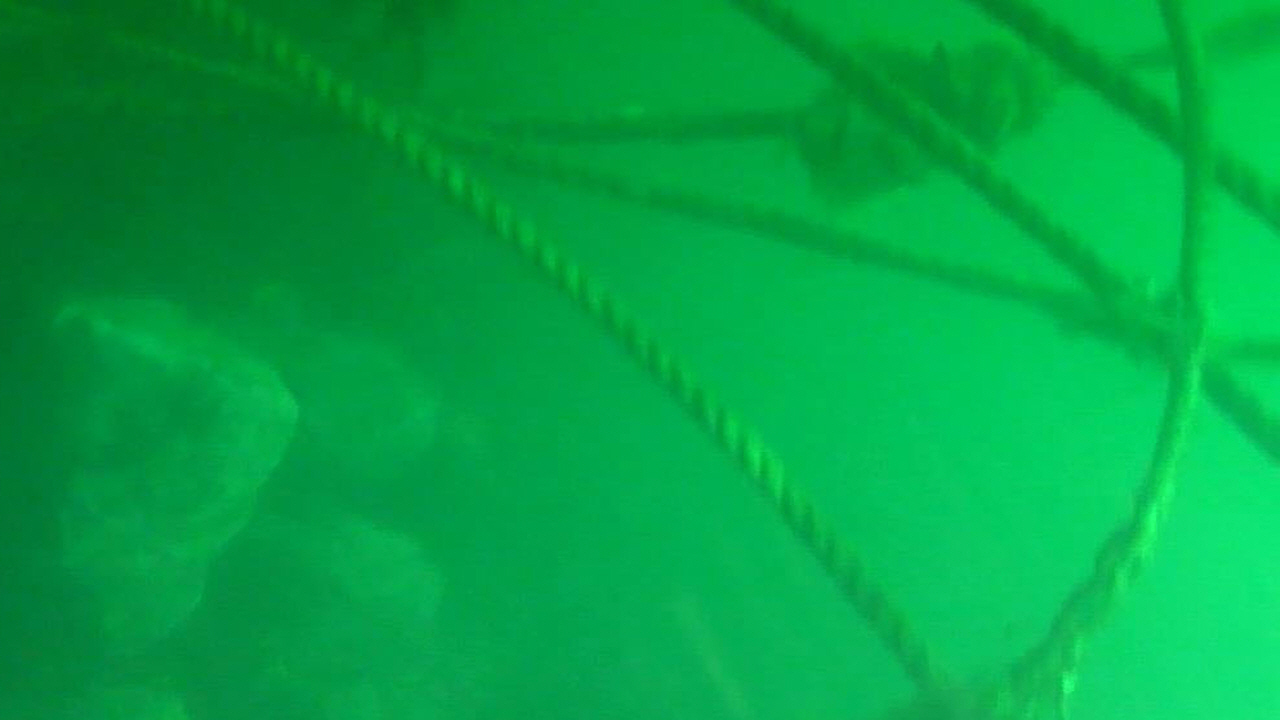bundle of ropes: (169, 0, 1280, 720)
